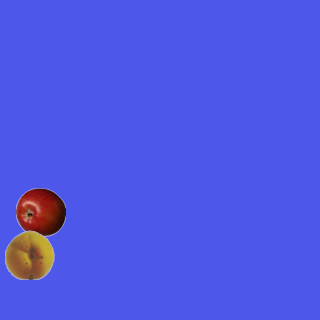Apple Braeburn: (15, 187, 65, 237)
Peach 2: (4, 229, 54, 279)
